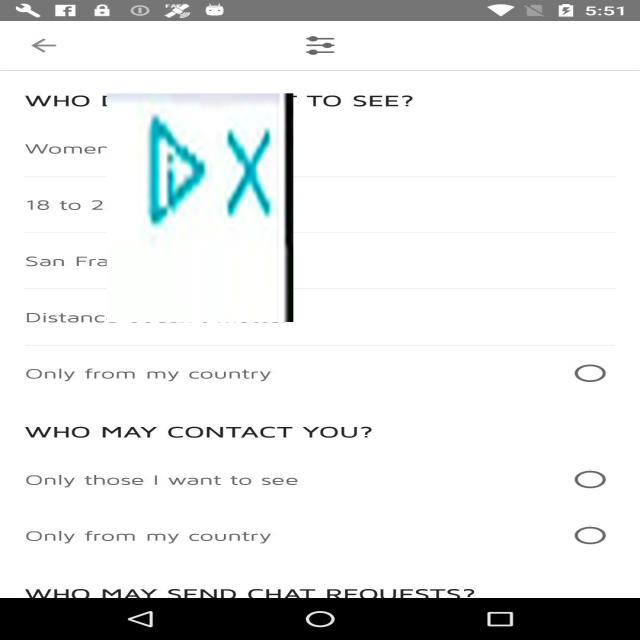sneaking: (107, 93, 293, 322)
